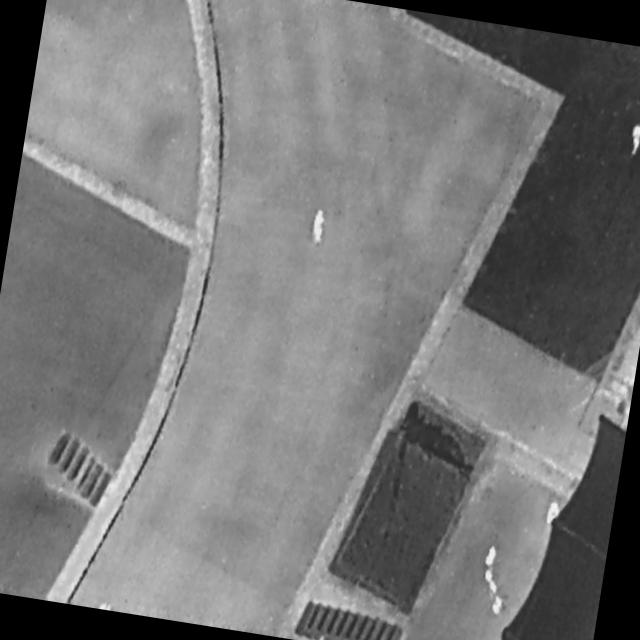person: (543, 495, 567, 532), (309, 208, 329, 250), (627, 121, 640, 159)
